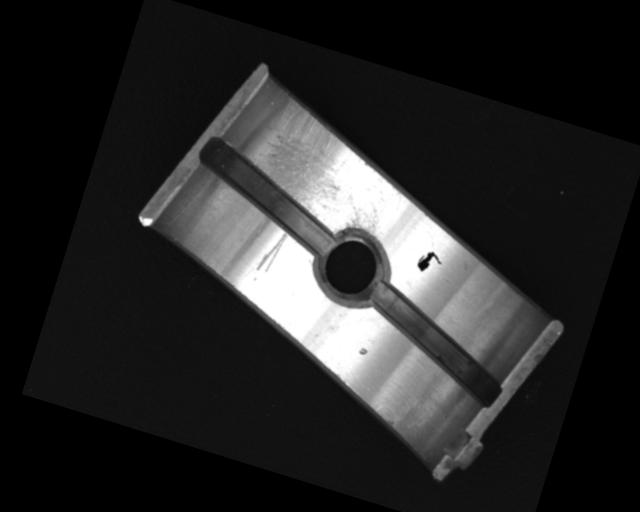blot: (414, 248, 444, 277)
bruise: (357, 345, 370, 357)
gap: (346, 276, 521, 409), (182, 135, 351, 257)
hole: (306, 219, 399, 312)
nick: (253, 225, 288, 277)
scratch: (249, 93, 415, 241)
